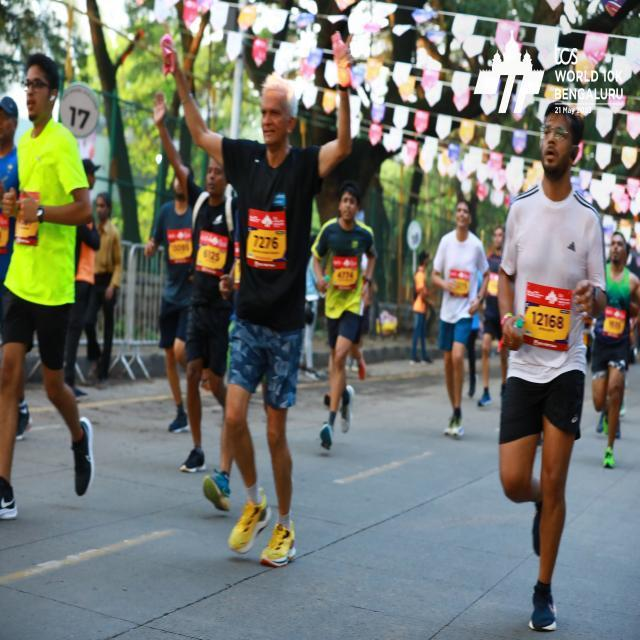dorsal: (522, 275, 572, 352), (246, 196, 289, 273), (329, 249, 361, 293)
